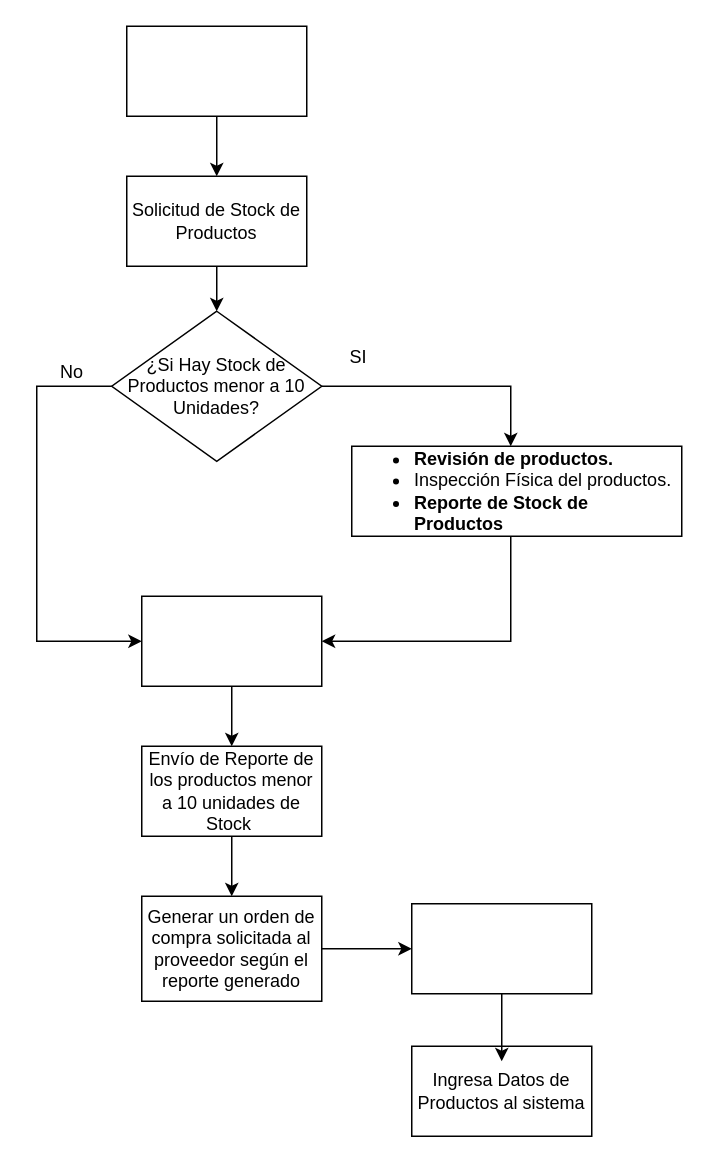
Some shapes in this 708 by 1163 pixel diagram are drawn without their labels. Here are the shapes that lost their labels. From the top down, the centre of each, then its label:
the point at 216,70: Área de Gestion de almacenes
the point at 231,640: Filtro de los productos menor a 10 unidades de Stock
the point at 501,948: Establece Fecha y Hora de Recepcion
